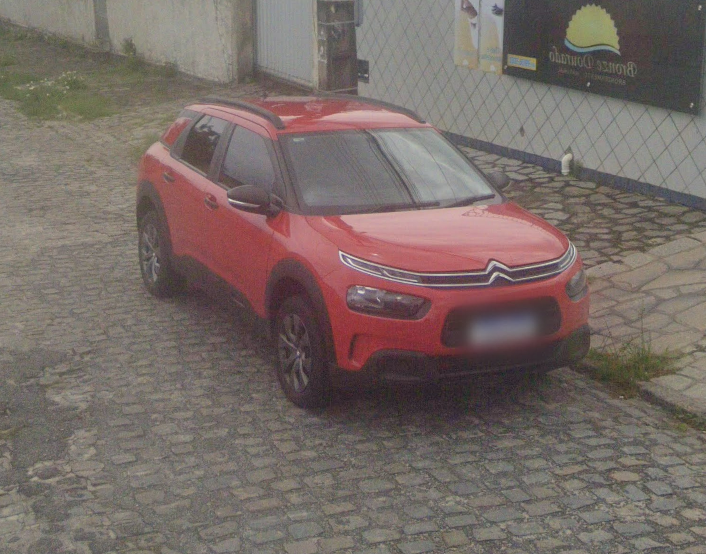car: (133, 92, 592, 407)
